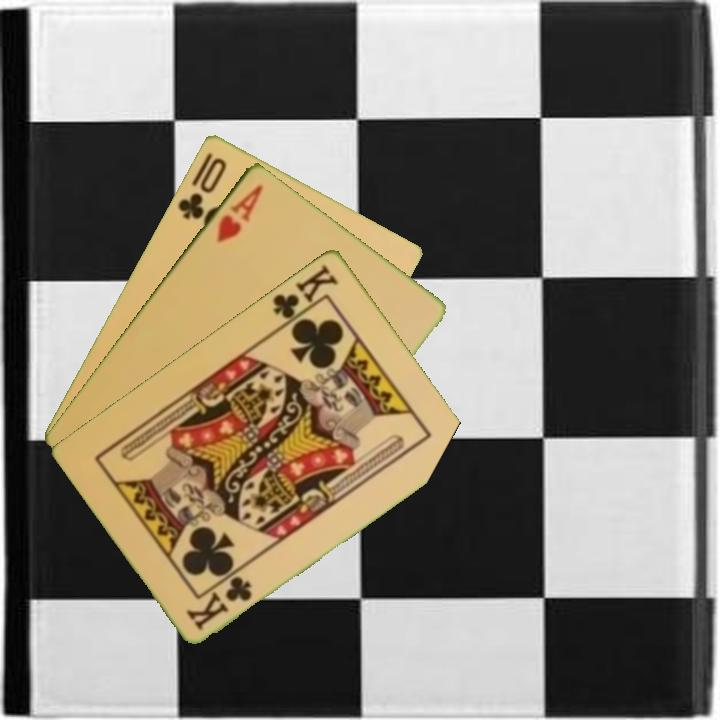10c: (173, 153, 230, 222)
Ah: (213, 179, 266, 246)
Kc: (269, 260, 341, 329), (183, 571, 255, 633)
